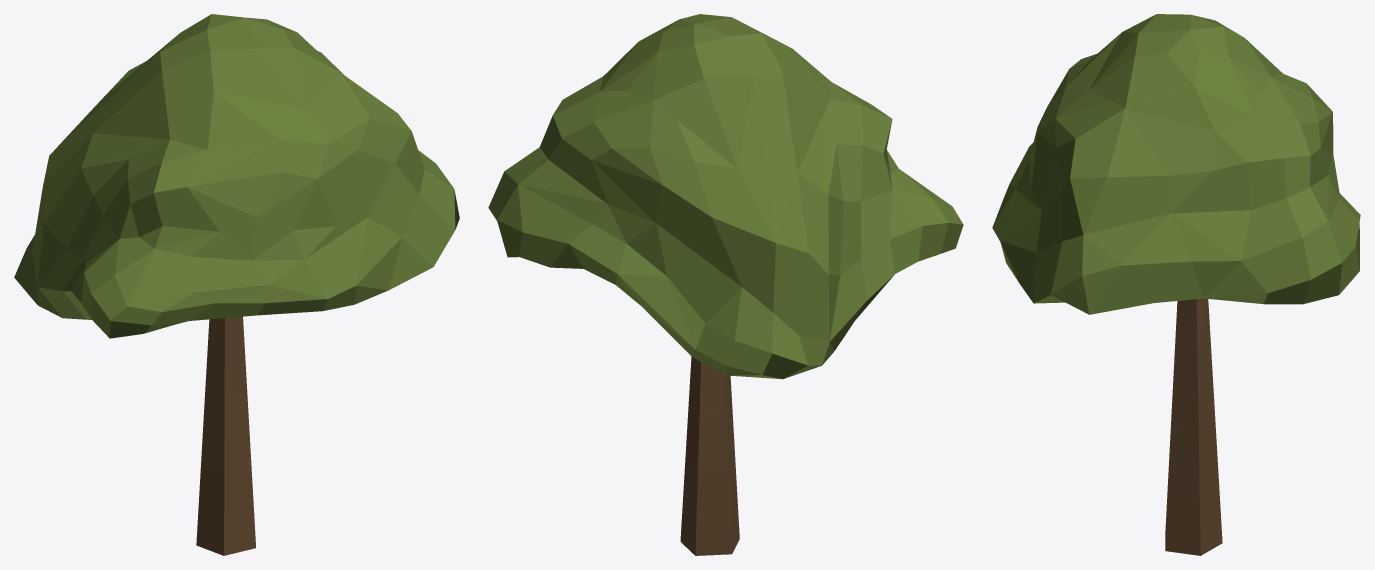
Rendered from wild_pz_tree_20_dk.glb.
3 renders of one model, left to right at view 1: azimuth 30°, elevation 25°; view 2: azimuth 150°, elevation 25°; view 3: azimuth 270°, elevation 25°, orthographic.
Visible parts, largest first — view 1: pg_tree_20_dk; view 2: pg_tree_20_dk; view 3: pg_tree_20_dk.
Boxes of the visible parts, box(x1,y1,x2,y2) form: pg_tree_20_dk: box(14, 14, 459, 555); pg_tree_20_dk: box(488, 14, 963, 555); pg_tree_20_dk: box(992, 14, 1360, 555).
Bounding box in the file's own units: 3.31 × 4.46 × 2.85.
